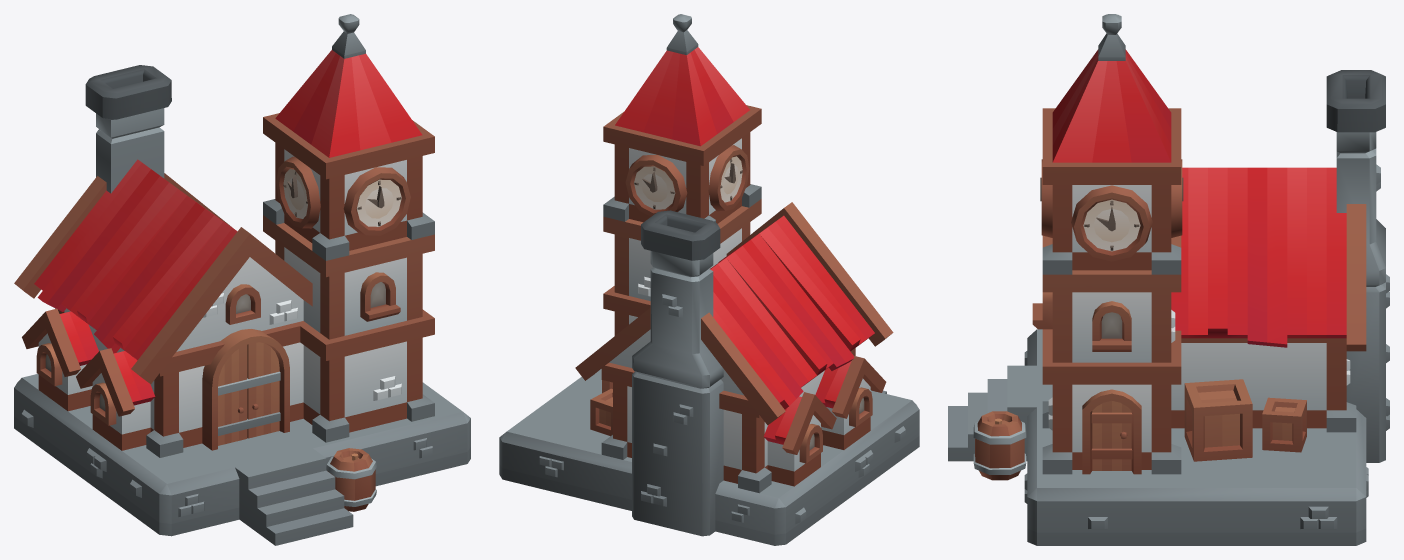
File: townhall_red.glb
3 renders of one model, left to right at view 1: azimuth 30°, elevation 25°; view 2: azimuth 150°, elevation 25°; view 3: azimuth 270°, elevation 25°, orthographic. The views are drawn at different scales.
Parts seen in each view (by area): view 1: townhall_red; view 2: townhall_red; view 3: townhall_red.
Part boxes in pixels (x1=…): townhall_red: x1=14, y1=14, x2=470, y2=545; townhall_red: x1=499, y1=14, x2=919, y2=545; townhall_red: x1=948, y1=14, x2=1389, y2=545.
Size of the model in its own units: 0.7175 by 0.9431 by 0.7818.
1 material, 1 textured.
